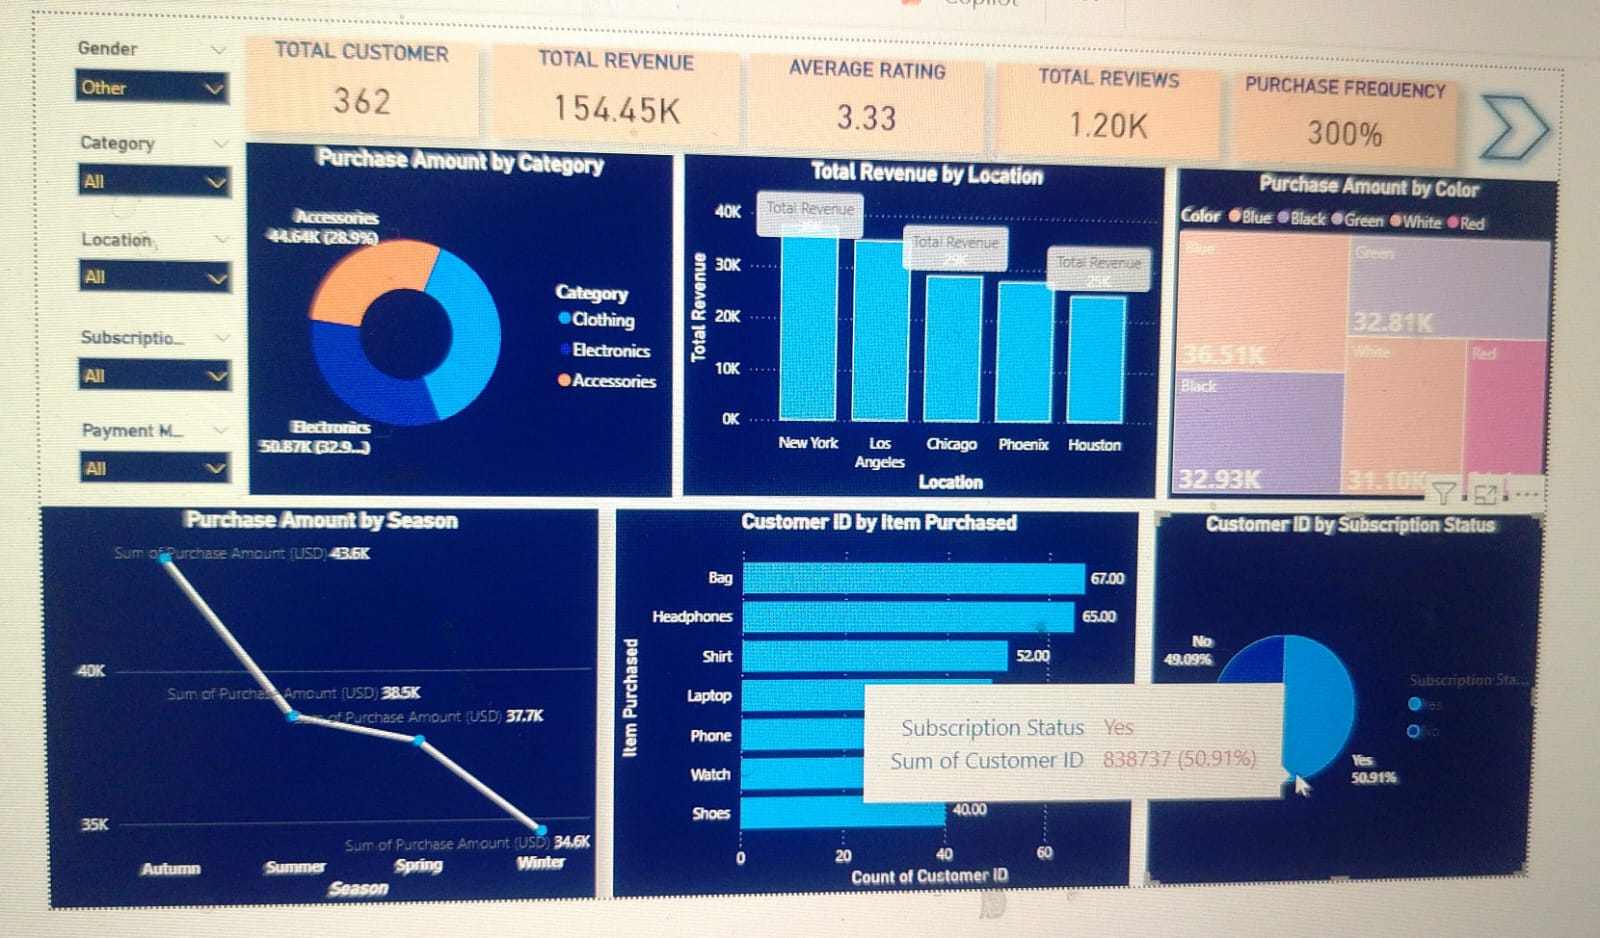

The page's visual inventory and layout, read from the dashboard file:
{"tool":"powerbi","page":{"name":"Customer Analysis","canvas":[1280,720],"ordinal":0},"visuals":[{"type":"card","title":"TOTAL CUSTOMER","fields":{"Values":["CountNonNull(Sheet1.Customer ID)"]},"box":[163.3,13.3,183.3,75.6],"z":0},{"type":"card","title":"TOTAL REVENUE","fields":{"Values":["Sheet1.Total Revenue"]},"box":[356.7,13.3,201.1,75.6],"z":1000},{"type":"card","title":"TOTAL REVIEWS","fields":{"Values":["Sum(Sheet1.Review Rating)"]},"box":[773.3,13.3,195.6,75.6],"z":2000},{"type":"card","title":"PURCHASE FREQUENCY","fields":{"Values":["Count(Sheet1.Frequency of Purchases)"]},"box":[980,13.3,202.2,75.6],"z":3000},{"type":"slicer","fields":{"Values":["Sheet1.Gender"]},"box":[20,13.3,141.1,65.6],"z":4000},{"type":"slicer","fields":{"Values":["Sheet1.Location"]},"box":[20.8,163.1,141.5,74.6],"z":5000},{"type":"slicer","fields":{"Values":["Sheet1.Payment Method"]},"box":[20,315.4,140,64.6],"z":6000},{"type":"slicer","fields":{"Values":["Sheet1.Subscription Status"]},"box":[20,240.8,142.3,62.3],"z":7000},{"type":"donutChart","title":"Purchase Amount by Category","fields":{"Category":["Sheet1.Category"],"Y":["Sum(Sheet1.Purchase Amount (USD))"]},"box":[162.9,97.1,341.4,282.9],"z":8000},{"type":"pieChart","title":"Customer ID by Subscription Status","fields":{"Category":["Sheet1.Subscription Status"],"Y":["Sum(Sheet1.Customer ID)"]},"box":[921.4,390,358.6,330],"z":9000},{"type":"card","title":"AVERAGE RATING","fields":{"Values":["Sheet1.Avg Rating"]},"box":[565.6,13.3,197.8,75.6],"z":10000},{"type":"slicer","fields":{"Values":["Sheet1.Category"]},"box":[21.1,87.8,141.1,63.3],"z":11000},{"type":"lineChart","title":"Purchase Amount by Season","fields":{"Category":["Sheet1.Season"],"Y":["Sum(Sheet1.Purchase Amount (USD))"]},"box":[0,390,442.9,330],"z":12000},{"type":"lineStackedColumnComboChart","fields":{"Y":["Sheet1.Total Revenue"],"Category":["Sheet1.Location"]},"box":[512.9,95.7,408.6,282.9],"z":13000},{"type":"clusteredBarChart","title":"Customer ID by Item Purchased","fields":{"Y":["CountNonNull(Sheet1.Customer ID)"],"Category":["Sheet1.Item Purchased"]},"box":[457.1,390,450,330],"z":14000},{"type":"treemap","title":"Purchase Amount by Color","fields":{"Values":["Sum(Sheet1.Purchase Amount (USD))"],"Group":["Sheet1.Color"]},"box":[931.4,95.7,348.6,282.9],"z":15000},{"type":"actionButton","box":[1193.8,13.8,86.2,73.8],"z":16000}]}

Visuals, with their boxes on the page's 1280x720 design canvas (x1, y1, x2, y2). These are canvas units, not pixel positions in the 1600x938 screenshot, which may show the page scaled, cropped or inside an application window:
"TOTAL CUSTOMER" card: BBox(163, 13, 347, 89)
"TOTAL REVENUE" card: BBox(357, 13, 558, 89)
"TOTAL REVIEWS" card: BBox(773, 13, 969, 89)
"PURCHASE FREQUENCY" card: BBox(980, 13, 1182, 89)
slicer - Sheet1.Gender: BBox(20, 13, 161, 79)
slicer - Sheet1.Location: BBox(21, 163, 162, 238)
slicer - Sheet1.Payment Method: BBox(20, 315, 160, 380)
slicer - Sheet1.Subscription Status: BBox(20, 241, 162, 303)
"Purchase Amount by Category" donutChart: BBox(163, 97, 504, 380)
"Customer ID by Subscription Status" pieChart: BBox(921, 390, 1280, 720)
"AVERAGE RATING" card: BBox(566, 13, 763, 89)
slicer - Sheet1.Category: BBox(21, 88, 162, 151)
"Purchase Amount by Season" lineChart: BBox(0, 390, 443, 720)
lineStackedColumnComboChart - Sheet1.Total Revenue x Sheet1.Location: BBox(513, 96, 922, 379)
"Customer ID by Item Purchased" clusteredBarChart: BBox(457, 390, 907, 720)
"Purchase Amount by Color" treemap: BBox(931, 96, 1280, 379)
actionButton: BBox(1194, 14, 1280, 88)
